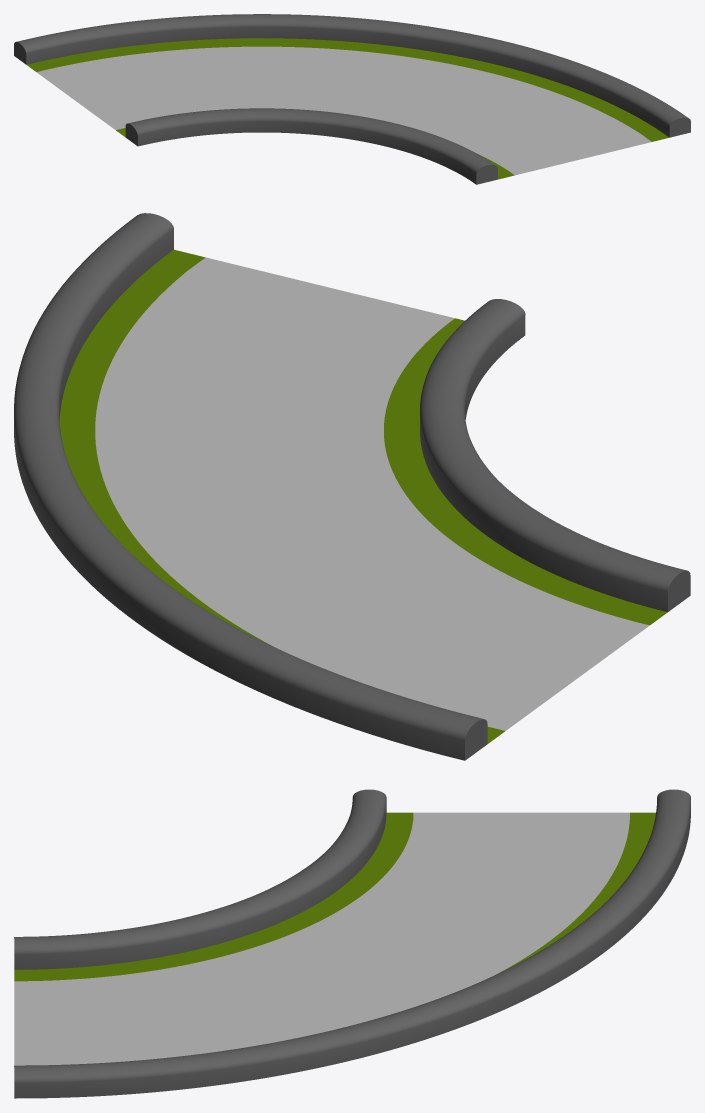
File: corner2x.gltf
3 renders of one model, top to bottom at view 1: azimuth 30°, elevation 25°; view 2: azimuth 150°, elevation 25°; view 3: azimuth 270°, elevation 25°, orthographic. The views are drawn at different scales.
Visible parts, largest first — view 1: $ColladaAutoName$_0; view 2: $ColladaAutoName$_0; view 3: $ColladaAutoName$_0.
Boxes of the visible parts, bbox=[...] form: $ColladaAutoName$_0: bbox=[14, 14, 690, 184]; $ColladaAutoName$_0: bbox=[14, 213, 690, 760]; $ColladaAutoName$_0: bbox=[14, 789, 690, 1098].
Bounding box in the file's own units: 48.03 × 1.8 × 48.03.
